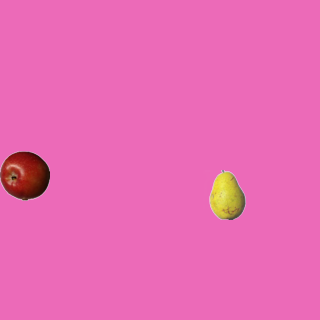Apple Braeburn: (0, 150, 49, 200)
Pear Monster: (202, 169, 252, 219)
